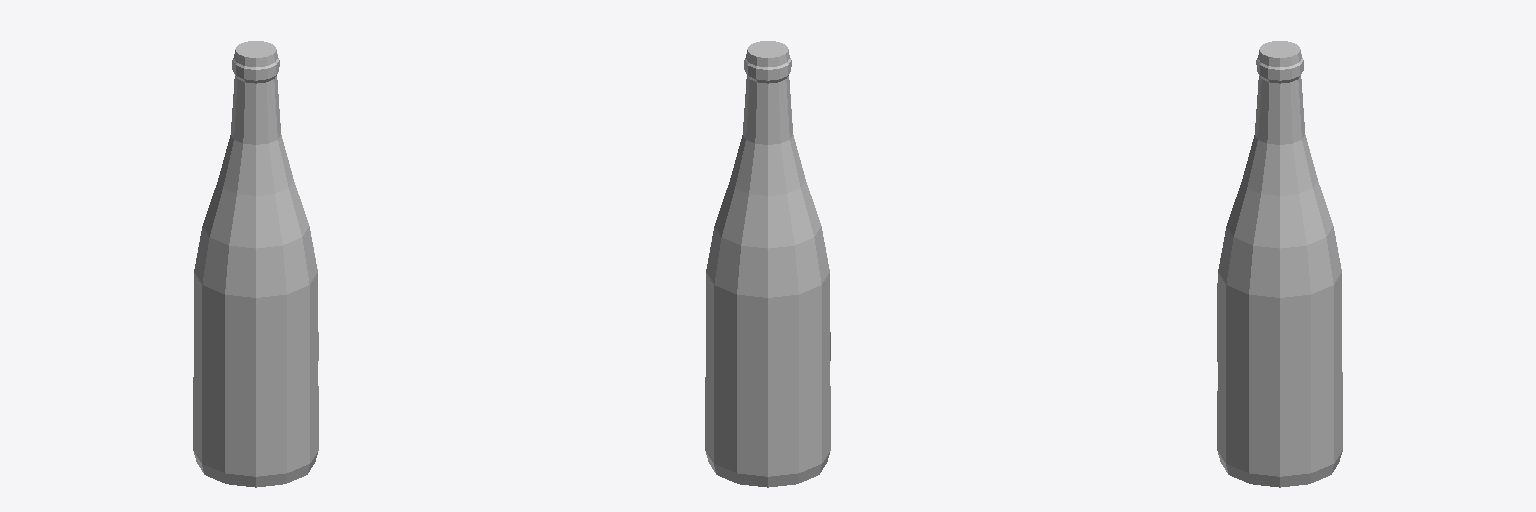
Rendered from bottle.obj.
3 renders of one model, left to right at view 1: azimuth 30°, elevation 25°; view 2: azimuth 150°, elevation 25°; view 3: azimuth 270°, elevation 25°, orthographic.
Parts seen in each view (by area): view 1: Cylinder.001; view 2: Cylinder.001; view 3: Cylinder.001.
Boxes of the visible parts, x1,y1,x2,y2 form: Cylinder.001: [193, 41, 318, 487]; Cylinder.001: [705, 41, 830, 487]; Cylinder.001: [1217, 41, 1342, 487].
Bounding box in the file's own units: 0.4395 × 1.59 × 0.4398.